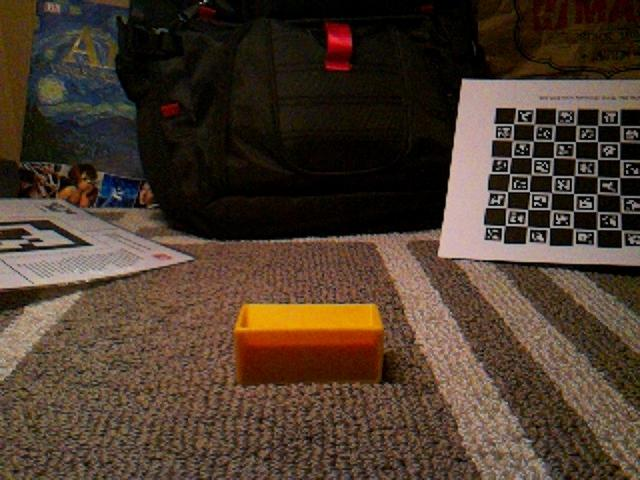yellow: (232, 301, 386, 386)
